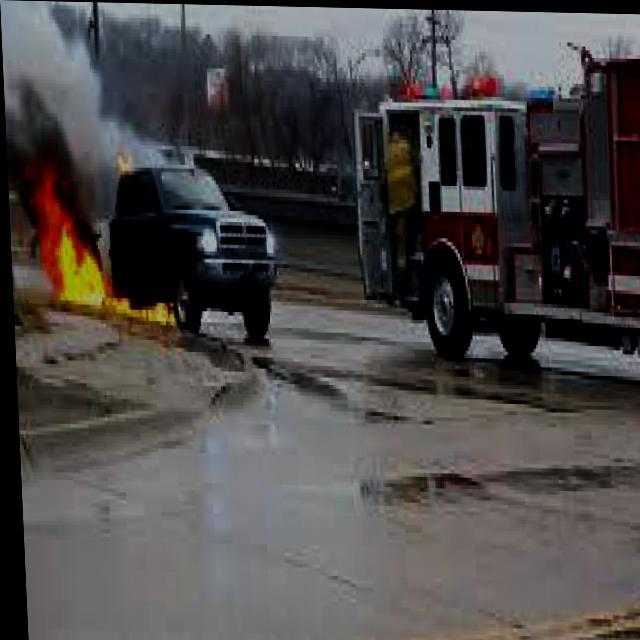Fire: (14, 146, 181, 347)
